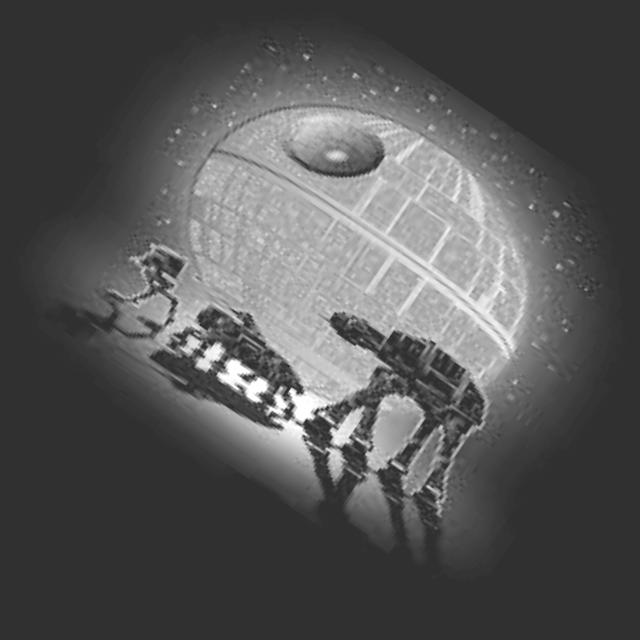death-stars: (181, 110, 522, 409)
